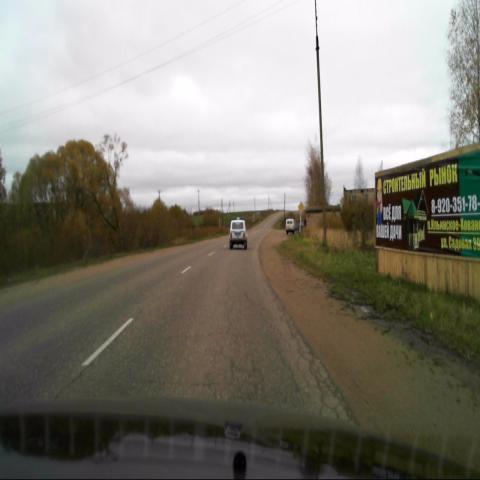2_1: (298, 200, 304, 213)
